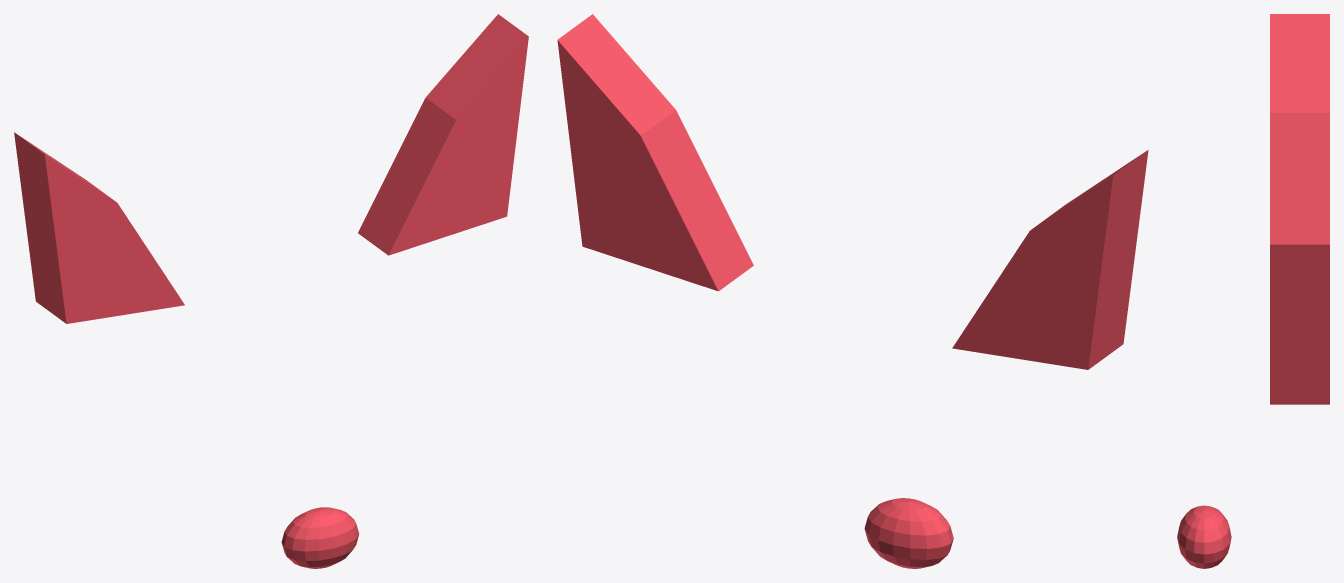
The model's file is devil.glb.
3 renders of one model, left to right at view 1: azimuth 30°, elevation 25°; view 2: azimuth 150°, elevation 25°; view 3: azimuth 270°, elevation 25°, orthographic. The views are drawn at different scales.
Parts seen in each view (by area): view 1: curved horn (×2), nose; view 2: curved horn (×2), nose; view 3: curved horn (×2), nose.
Boxes of the visible parts, box(x1,y1,x2,y2) form: curved horn (×2): box(14, 14, 528, 323); nose: box(281, 507, 359, 568); curved horn (×2): box(557, 14, 1148, 369); nose: box(864, 498, 953, 568); curved horn (×2): box(1270, 14, 1329, 404); nose: box(1177, 505, 1231, 568).
Bounding box in the file's own units: 2 × 1.76 × 0.56.
